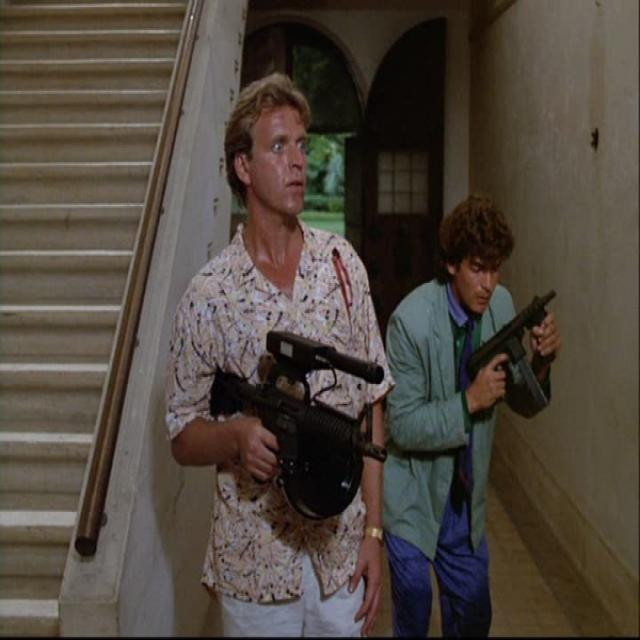rifle: (208, 325, 391, 524), (461, 280, 560, 424)
